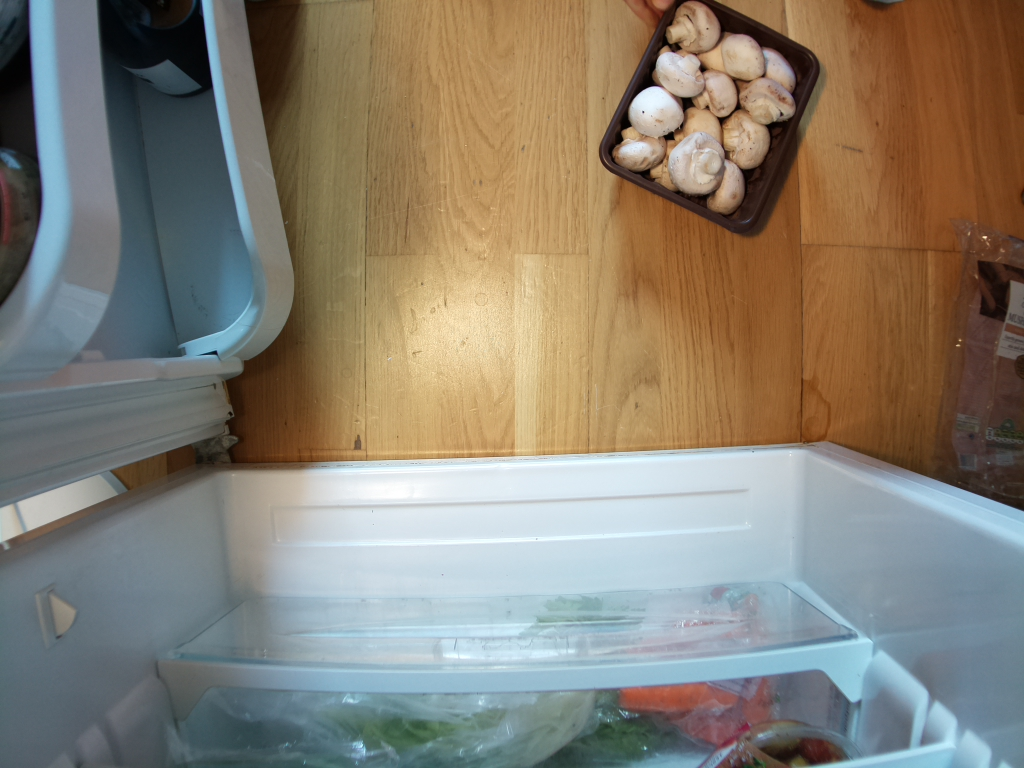mushrooms: (594, 1, 822, 235)
